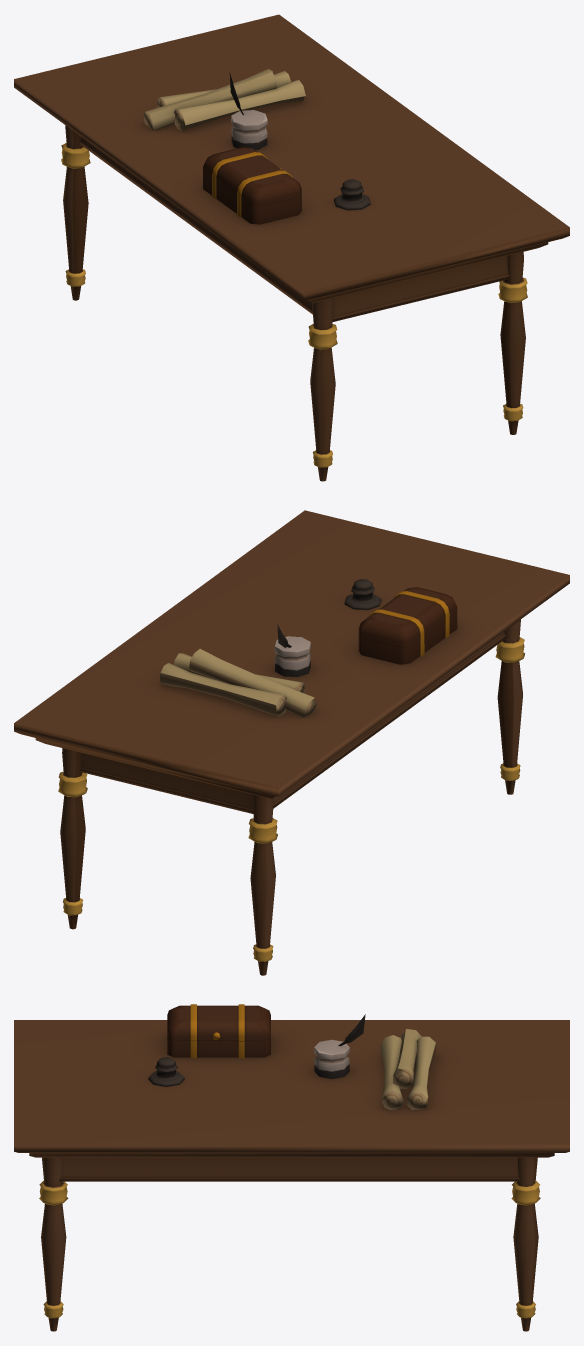
Rendered from Escritorio.fbx.
3 renders of one model, top to bottom at view 1: azimuth 30°, elevation 25°; view 2: azimuth 150°, elevation 25°; view 3: azimuth 270°, elevation 25°, orthographic. The views are drawn at different scales.
Parts seen in each view (by area): view 1: OBJ_Escritorio; view 2: OBJ_Escritorio; view 3: OBJ_Escritorio.
Part boxes in pixels (x1,y1,x2,y2): OBJ_Escritorio: (14,14,569,481); OBJ_Escritorio: (14,510,569,975); OBJ_Escritorio: (14,1004,569,1331).
Size of the model in its own units: 3.39 by 3.33 by 6.45.
